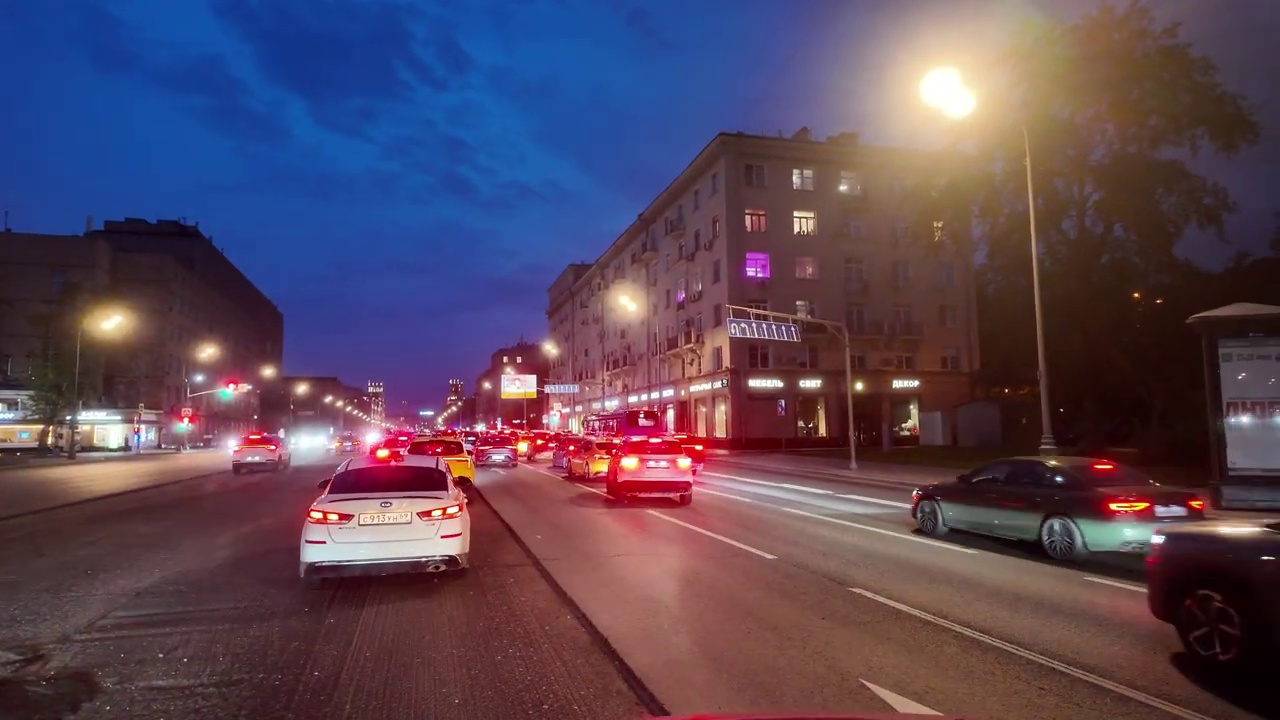acesa: (909, 57, 986, 129), (85, 305, 132, 343), (608, 286, 645, 320), (192, 339, 221, 365), (540, 338, 562, 361)
